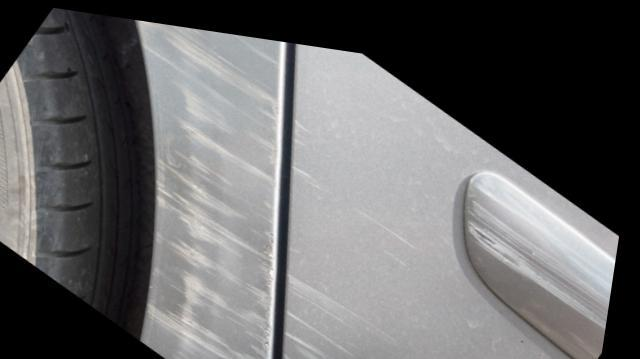scratch: (137, 16, 284, 359), (470, 166, 619, 314), (291, 260, 406, 359)
